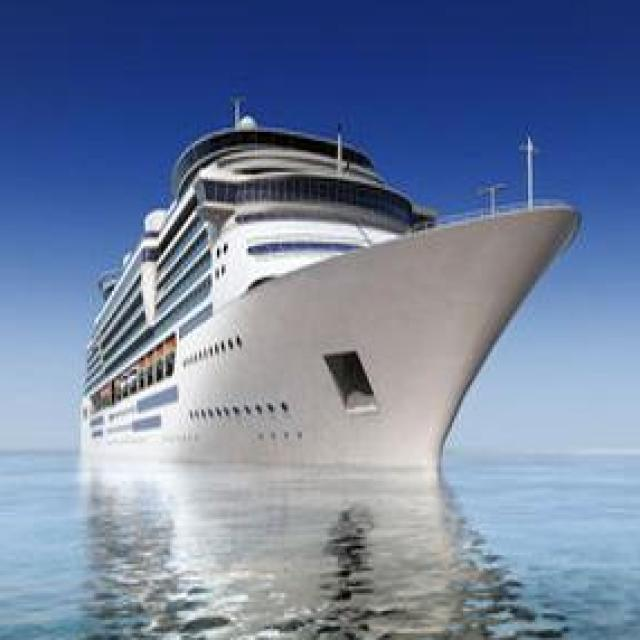passenger ship: (83, 89, 583, 480)
